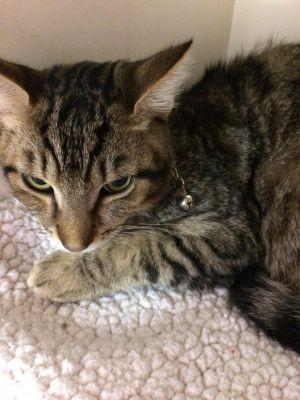bengal: (1, 14, 200, 261)
